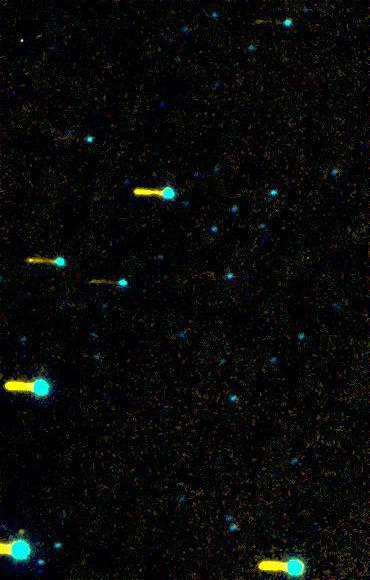star: (0, 518, 30, 548)
